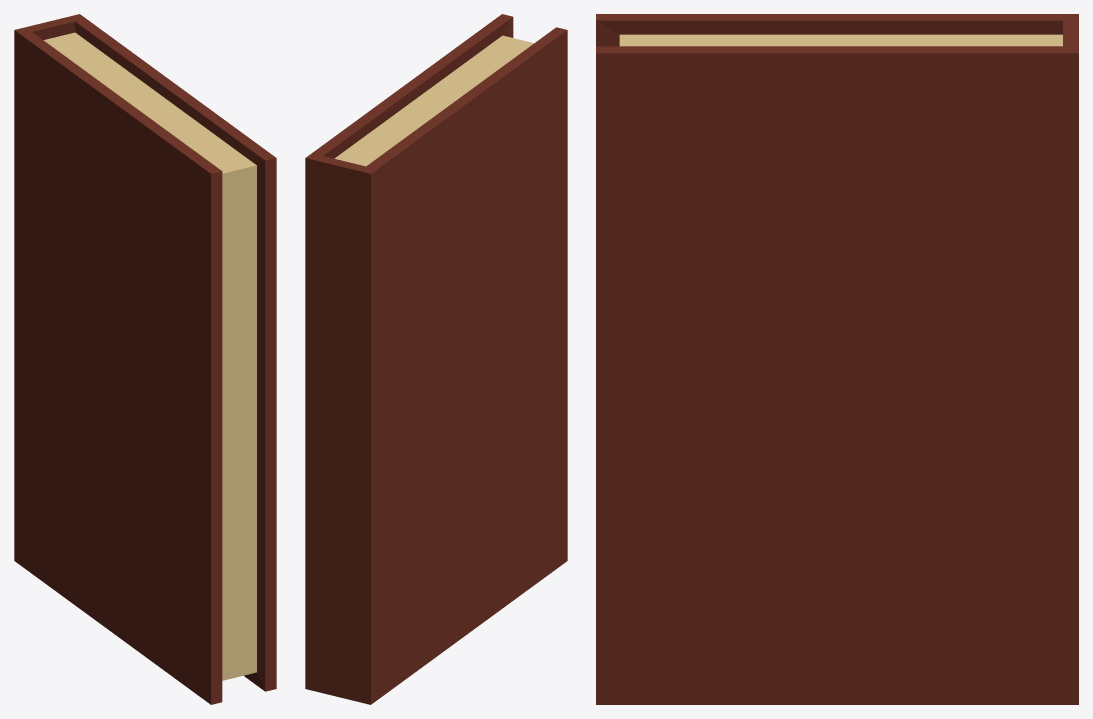
Rendered from Book1_018.fbx.
3 views of the same model, side by side, from view 1: azimuth 30°, elevation 25°; view 2: azimuth 150°, elevation 25°; view 3: azimuth 270°, elevation 25° (orthographic). The views are drawn at different scales.
Parts seen in each view (by area): view 1: Book1.018; view 2: Book1.018; view 3: Book1.018.
Part boxes in pixels (<box>): Book1.018: <box>14,14,276,704</box>; Book1.018: <box>305,14,567,704</box>; Book1.018: <box>596,14,1078,704</box>.
Size of the model in its own units: 7.32 by 56.73 by 38.09.
